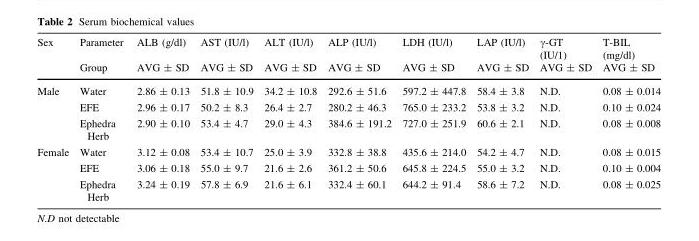table: (36, 36, 660, 202)
table column: (321, 36, 396, 202), (396, 36, 470, 202), (129, 36, 194, 202), (194, 36, 258, 202), (596, 36, 660, 202), (258, 36, 321, 202), (470, 36, 533, 202), (533, 36, 596, 202), (73, 36, 129, 202), (36, 36, 73, 202)
table column header: (36, 36, 660, 79)
table row: (36, 115, 660, 144), (36, 176, 660, 202), (36, 36, 660, 61), (36, 79, 660, 99), (36, 61, 660, 79), (36, 99, 660, 115), (36, 144, 660, 160), (36, 160, 660, 176)
table spanning cell: (321, 36, 396, 79), (396, 36, 470, 79), (129, 36, 194, 79), (194, 36, 258, 79), (596, 36, 660, 79), (258, 36, 321, 79), (470, 36, 533, 79), (533, 36, 596, 79), (73, 36, 129, 79), (36, 79, 73, 144), (36, 144, 73, 202), (36, 36, 73, 79)
